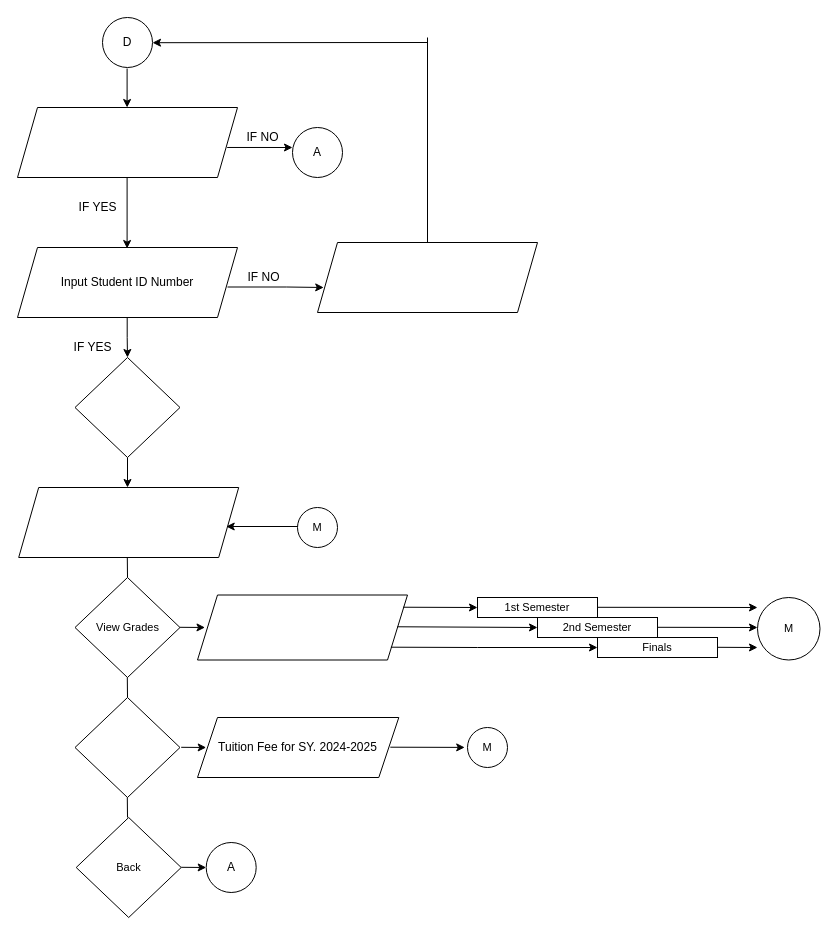
This 838x935 diagram has some shape labels left out. The box of each missing label's shape, as (x1, y1, x2, y2) in pixels:
"Do you want to Login?" Y / N: (16, 106, 238, 178)
Choose Option: (18, 486, 239, 558)
Choose Semester: (196, 594, 408, 660)
Output: Wrong password: (316, 242, 538, 312)
Student ID Number: (74, 356, 180, 458)
View Tuition Fee: (74, 696, 180, 798)
